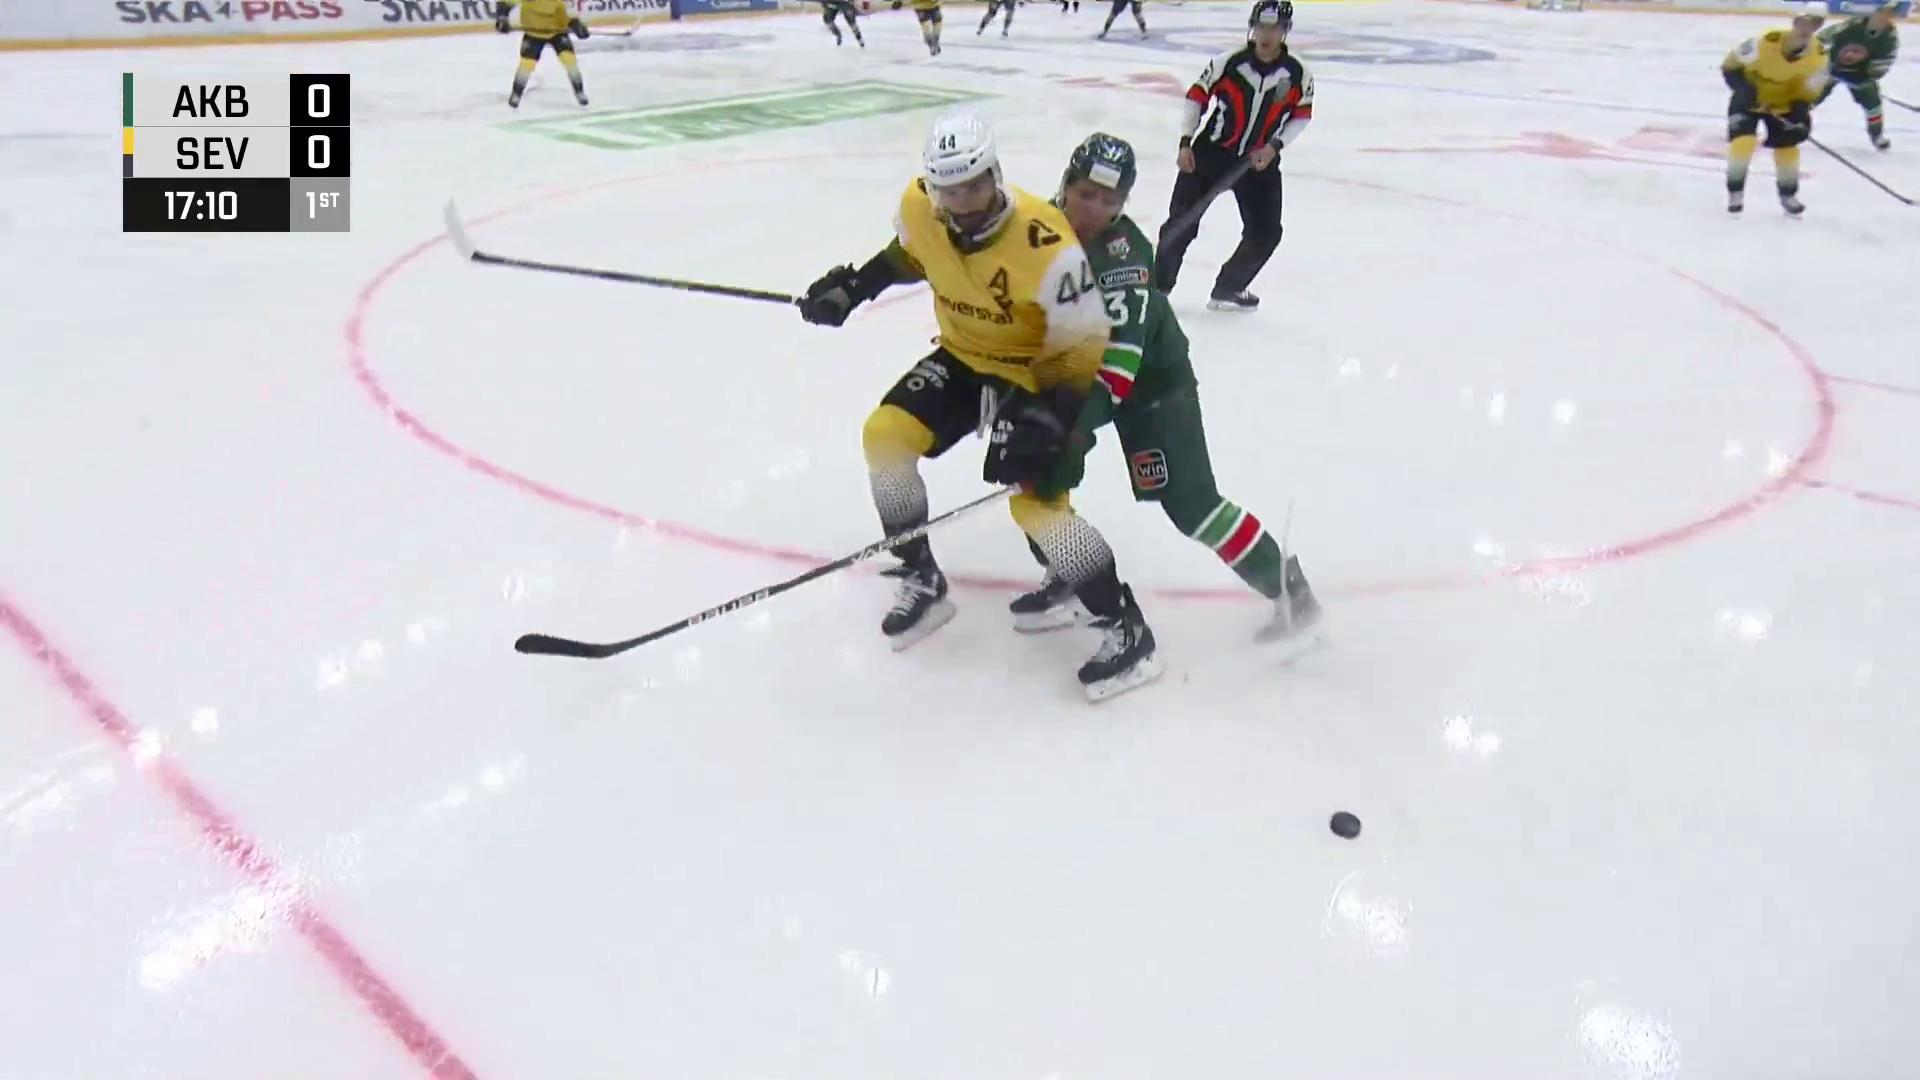ball: (1324, 806, 1369, 849)
